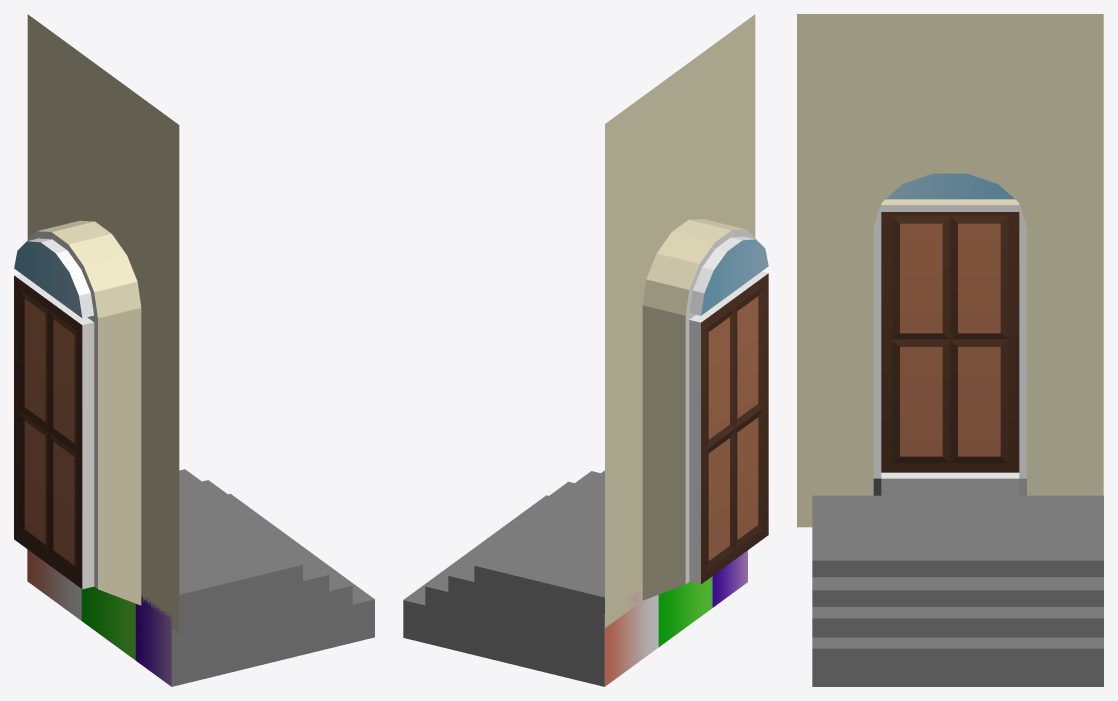
Rendered from door1.glb.
The picture shows the model from 3 angles, left to right: view 1: azimuth 30°, elevation 25°; view 2: azimuth 150°, elevation 25°; view 3: azimuth 270°, elevation 25°; orthographic projection.
Parts seen in each view (by area): view 1: Doorway; view 2: Doorway; view 3: Doorway.
Boxes of the visible parts, bbox=[...] form: Doorway: bbox=[14, 14, 374, 686]; Doorway: bbox=[403, 14, 768, 686]; Doorway: bbox=[797, 14, 1103, 686].
Size of the model in its own units: 1.97 by 4.13 by 2.
1 material, 1 textured.
